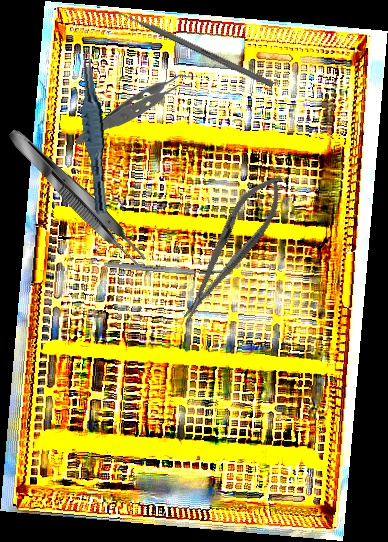Needle Holder: (167, 163, 296, 332)
Pusher: (104, 3, 275, 88)
Scalpel Handle: (103, 261, 215, 277)
Tissue Forceps: (2, 122, 152, 272), (76, 71, 199, 149), (72, 47, 117, 215)
